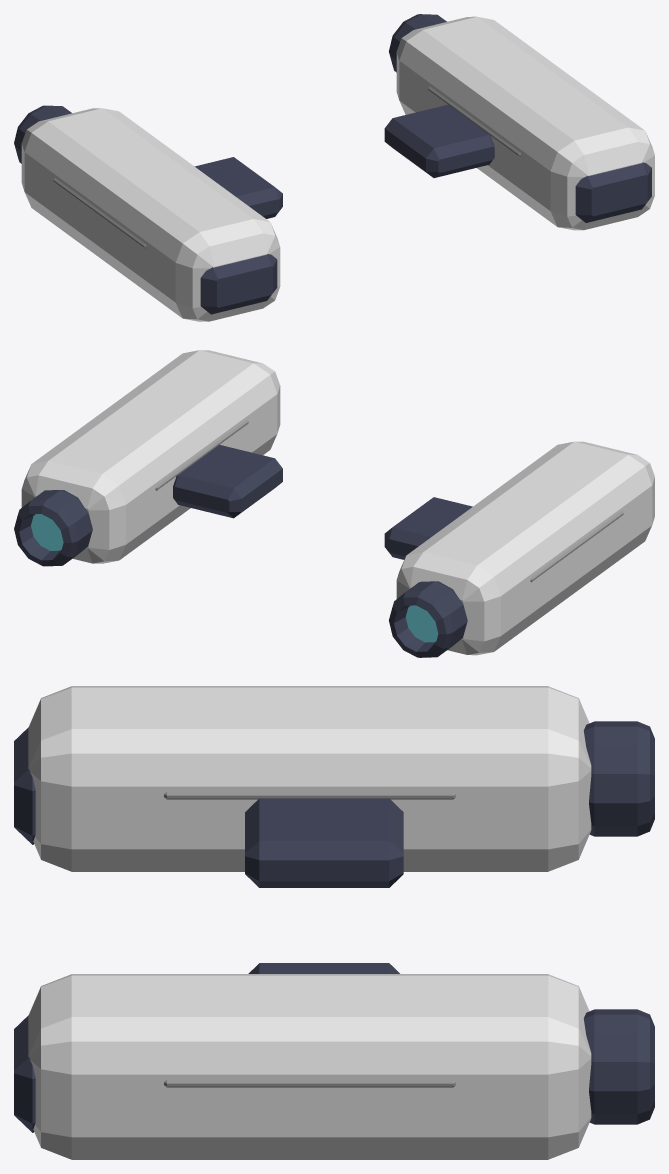
The model's file is engine_pods.obj.
3 renders of one model, top to bottom at view 1: azimuth 30°, elevation 25°; view 2: azimuth 150°, elevation 25°; view 3: azimuth 270°, elevation 25°, orthographic. The views are drawn at different scales.
Bounding box in the file's own units: 3.02 × 0.54 × 2.22.
